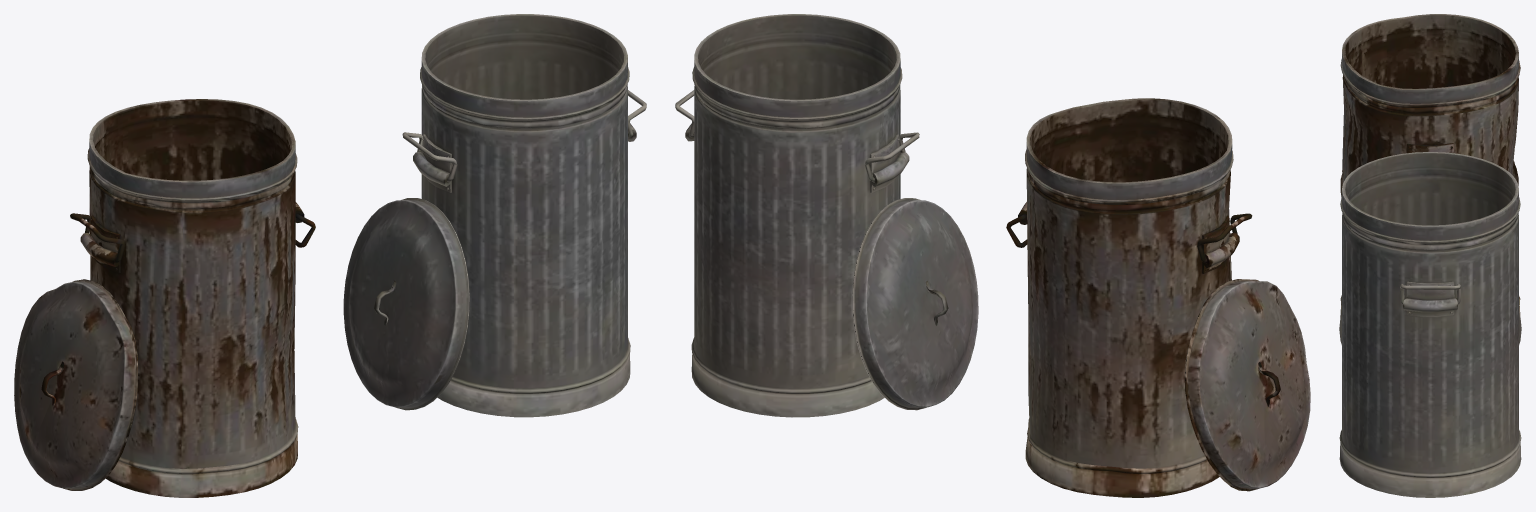
The model's file is metal_trash_can.glb.
The picture shows the model from 3 angles, left to right: view 1: azimuth 30°, elevation 25°; view 2: azimuth 150°, elevation 25°; view 3: azimuth 270°, elevation 25°; orthographic projection. The views are drawn at different scales.
Visible parts, largest first — view 1: metal_trash_can_handle_left, metal_trash_can_rust; view 2: metal_trash_can_handle_left, metal_trash_can_rust; view 3: metal_trash_can_handle_left, metal_trash_can_rust.
Boxes of the visible parts, left/top/right/bottom form: metal_trash_can_handle_left: left=343, top=14, right=646, bottom=417; metal_trash_can_rust: left=14, top=99, right=315, bottom=497; metal_trash_can_handle_left: left=675, top=14, right=978, bottom=417; metal_trash_can_rust: left=1006, top=98, right=1310, bottom=497; metal_trash_can_handle_left: left=1339, top=152, right=1521, bottom=497; metal_trash_can_rust: left=1340, top=14, right=1520, bottom=317.
Size of the model in its own units: 1.78 by 0.9062 by 0.5543.
Materials: 2 (2 with a texture image).
